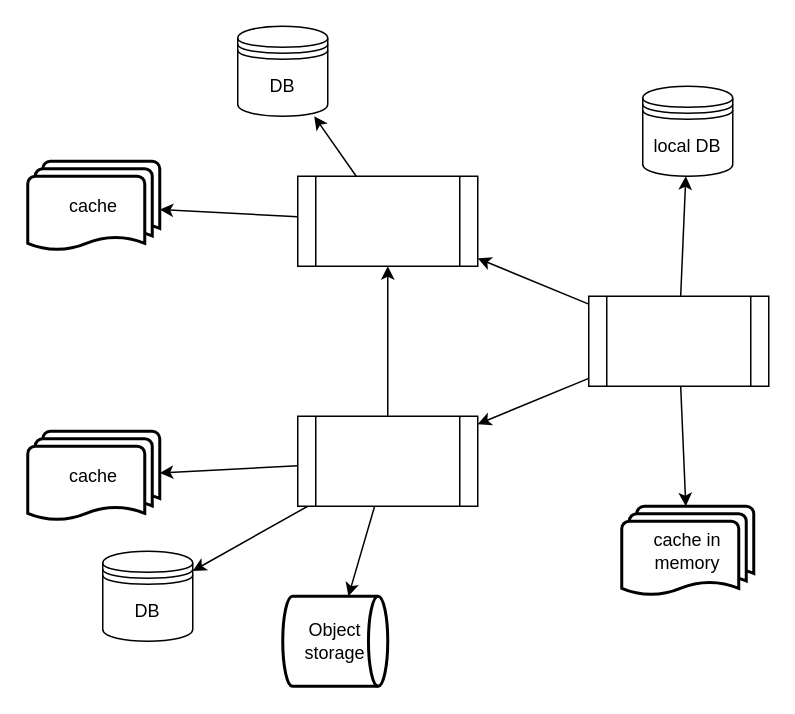
This 795x714 diagram has some shape labels left out. Here are the shapes that lost their labels. From the top down, the box of each, then its label:
(296, 175, 478, 266): AuthServer
(587, 295, 769, 386): Client
(296, 415, 478, 506): BridgeServer
